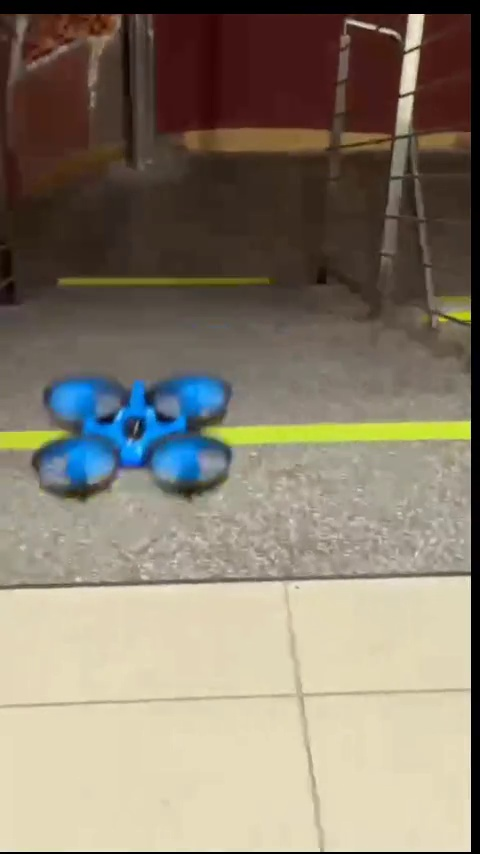drone: (36, 374, 229, 494)
